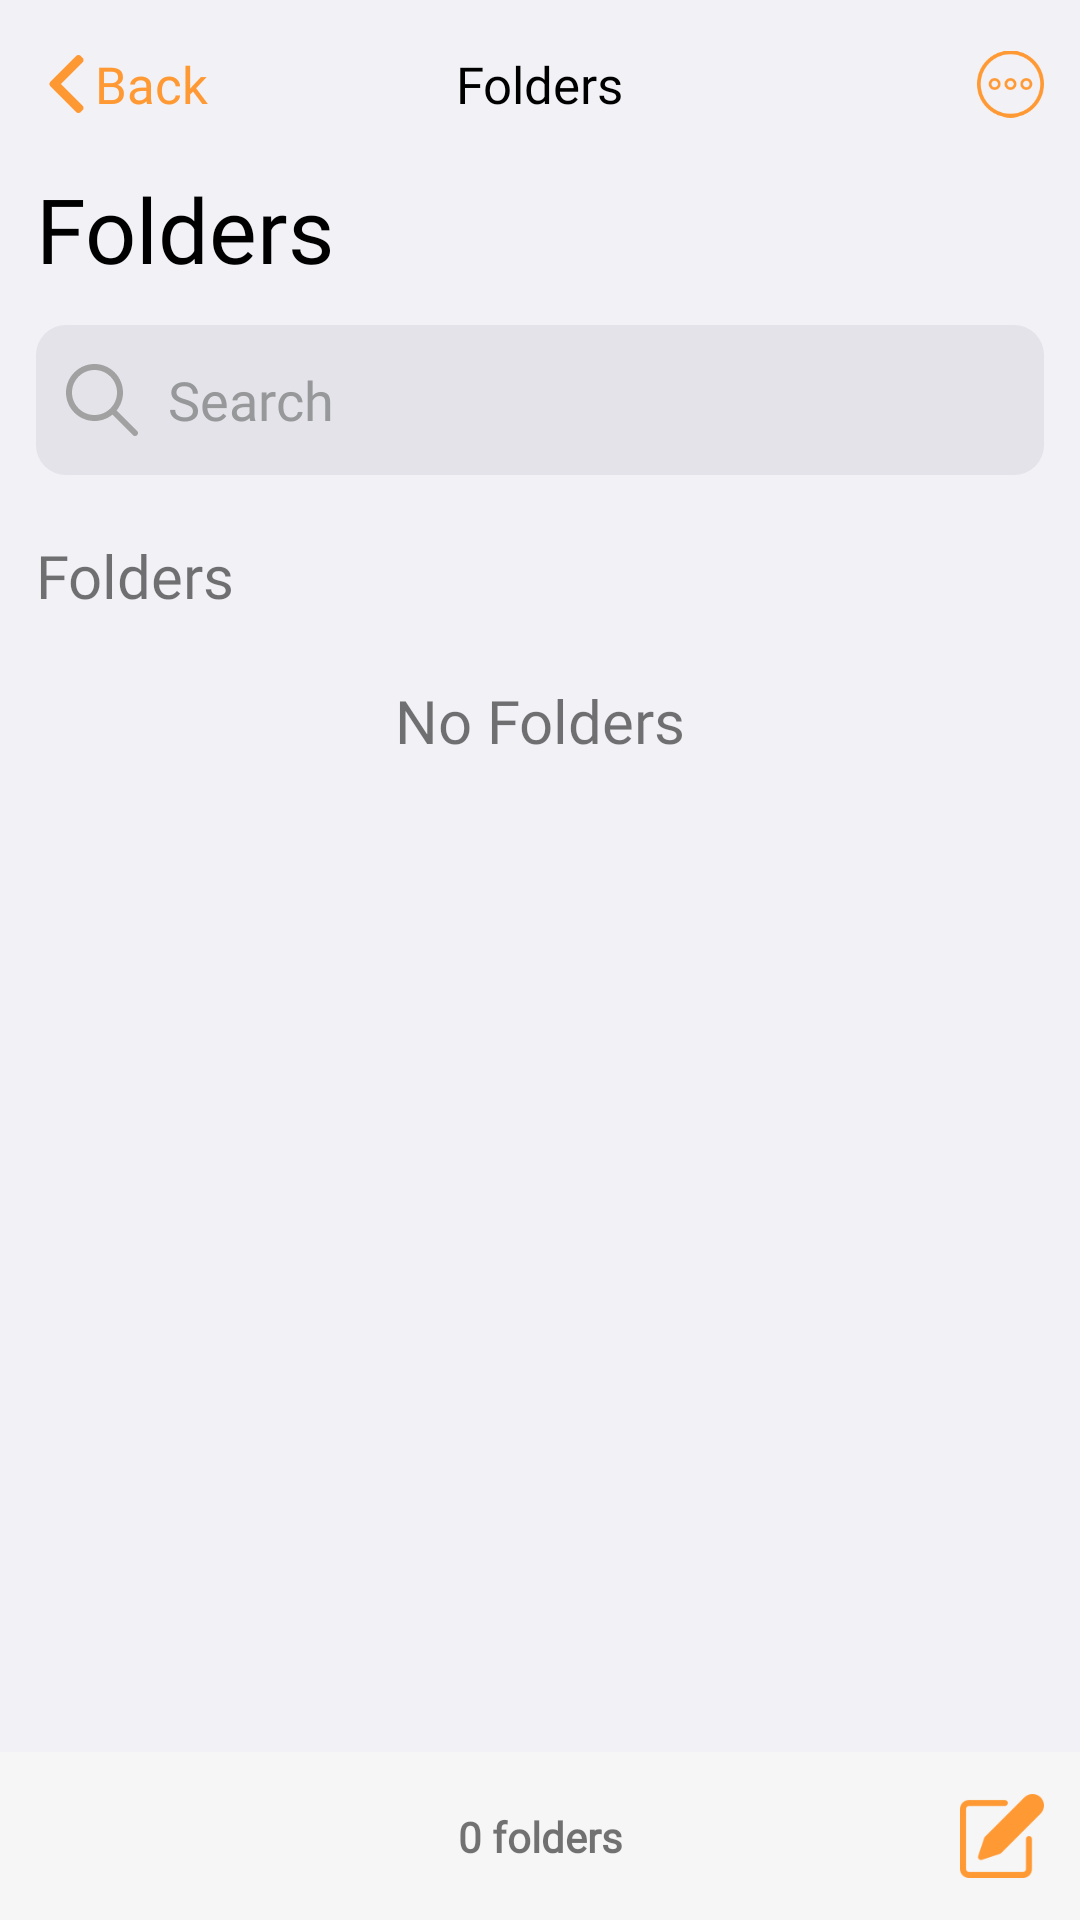

Named icons in this screenshot (1080 x 1920) and their centers, [x,y]:
create home: [1002,1836]
